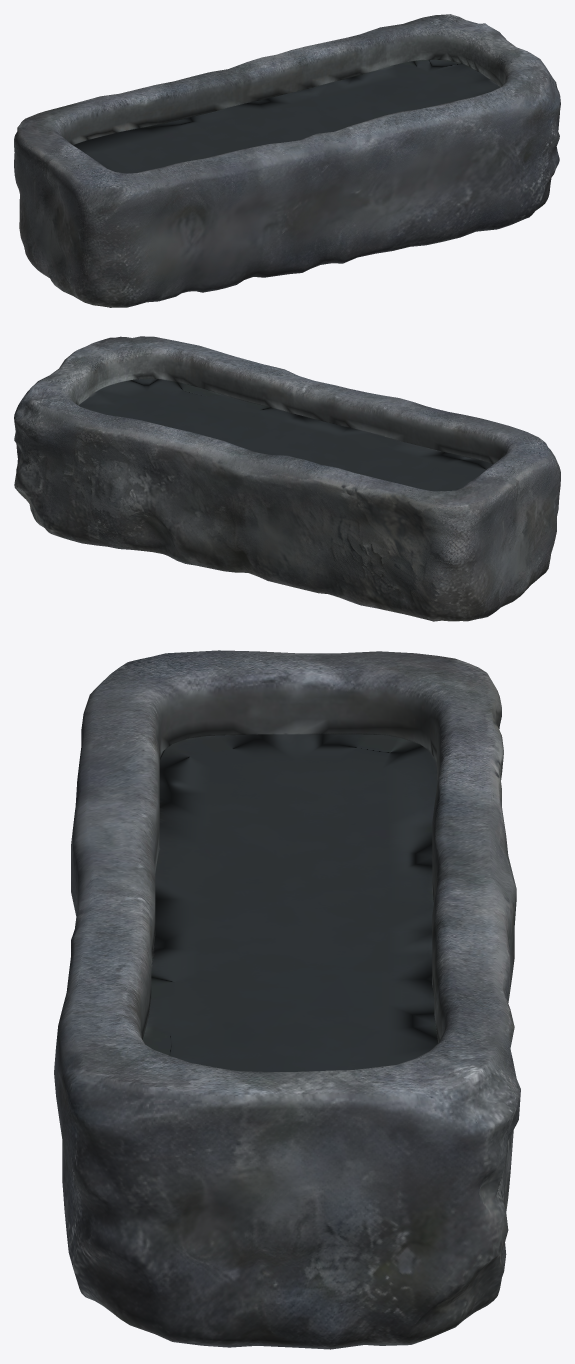
3 renders of one model, top to bottom at view 1: azimuth 30°, elevation 25°; view 2: azimuth 150°, elevation 25°; view 3: azimuth 270°, elevation 25°, orthographic. The views are drawn at different scales.
Visible parts, largest first — view 1: tripo_node_469636ae-b046-4710-af22-9bfe8db933fb; view 2: tripo_node_469636ae-b046-4710-af22-9bfe8db933fb; view 3: tripo_node_469636ae-b046-4710-af22-9bfe8db933fb.
Part boxes in pixels (left/top/right/bottom): tripo_node_469636ae-b046-4710-af22-9bfe8db933fb: left=14, top=14, right=560, bottom=307; tripo_node_469636ae-b046-4710-af22-9bfe8db933fb: left=14, top=336, right=560, bottom=621; tripo_node_469636ae-b046-4710-af22-9bfe8db933fb: left=54, top=650, right=520, bottom=1349.
Bounding box in the file's own units: 0.998 × 0.2715 × 0.4316.
1 material, 1 textured.
